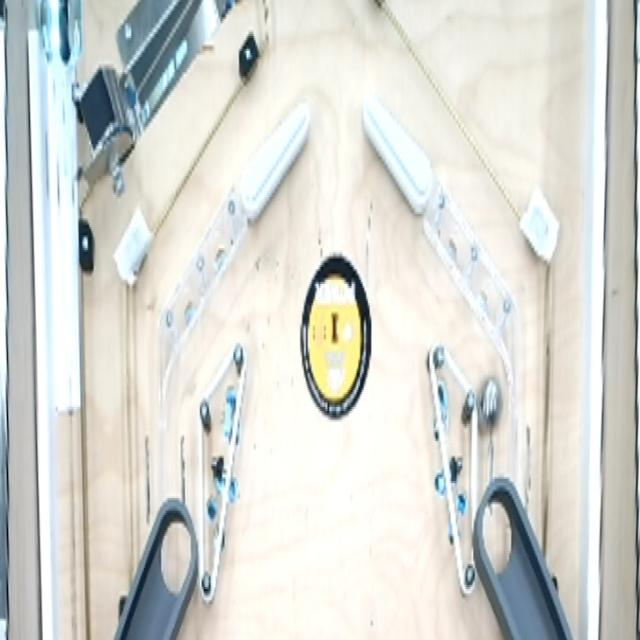ball: (474, 367, 508, 441)
flipper-left: (358, 84, 436, 220)
flipper-right: (236, 94, 313, 225)
